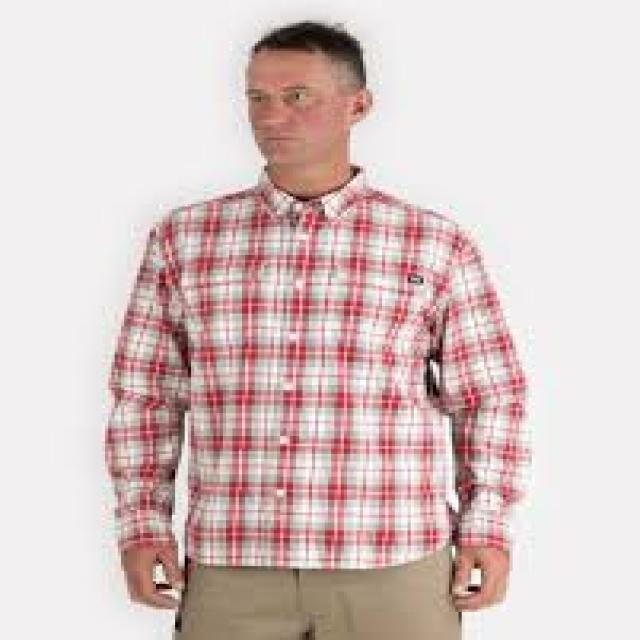plaid: (106, 178, 530, 566)
